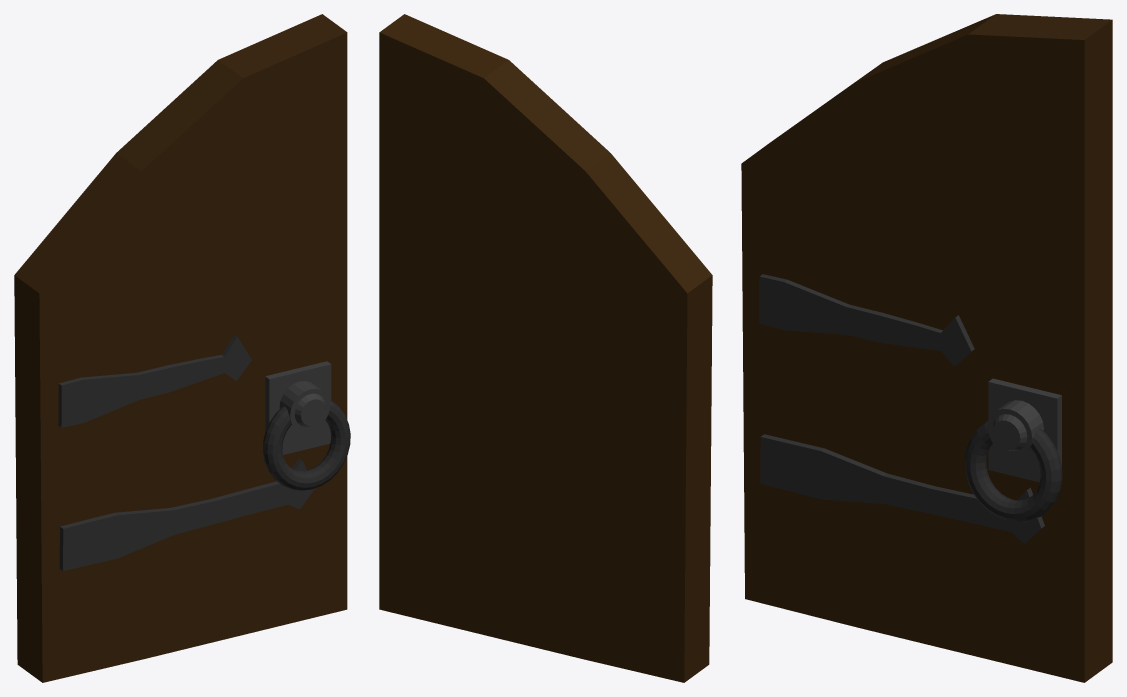
The model's file is DoorL.fbx.
3 renders of one model, left to right at view 1: azimuth 30°, elevation 25°; view 2: azimuth 150°, elevation 25°; view 3: azimuth 330°, elevation 25°, orthographic. The views are drawn at different scales.
Parts seen in each view (by area): view 1: Plane.005; view 2: Plane.005; view 3: Plane.005.
Part boxes in pixels (x1,y1,x2,y2): Plane.005: [14, 14, 350, 682]; Plane.005: [379, 14, 712, 682]; Plane.005: [741, 14, 1112, 682].
Size of the model in its own units: 145 by 260 by 35.83.
